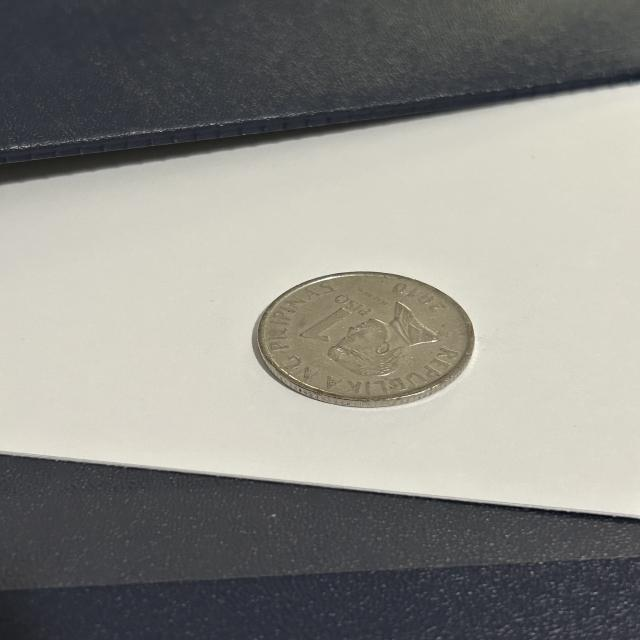1_Old_Front: (298, 291, 372, 354)
